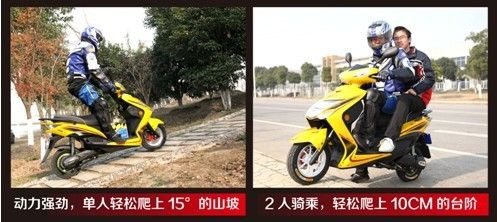non-vehicle: (283, 59, 431, 185), (42, 75, 166, 174)
